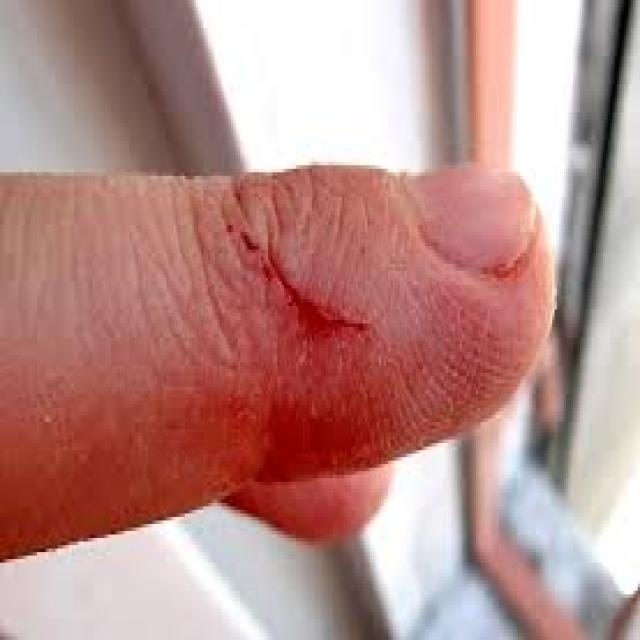wound: (242, 195, 398, 386)
